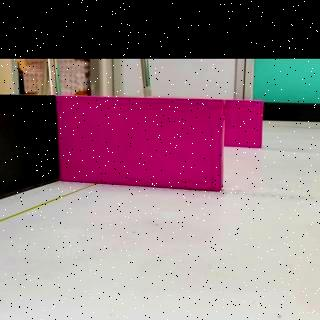xparking: (62, 101, 222, 187), (227, 101, 260, 147)
